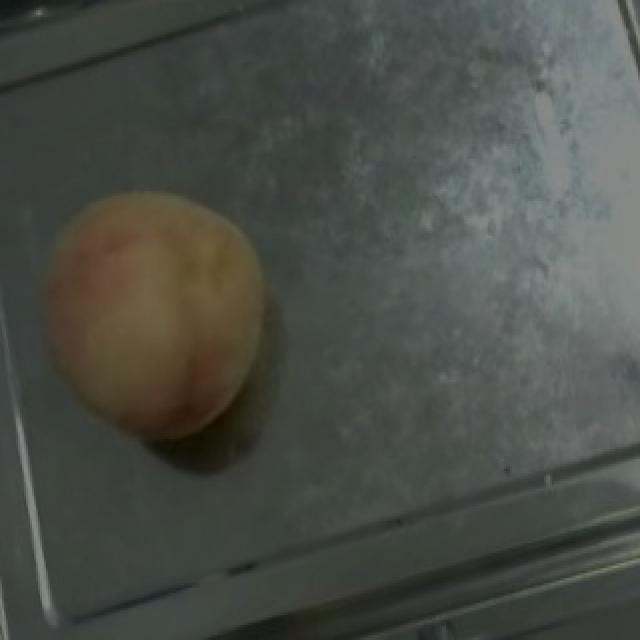Fruit: (0, 149, 314, 476)
